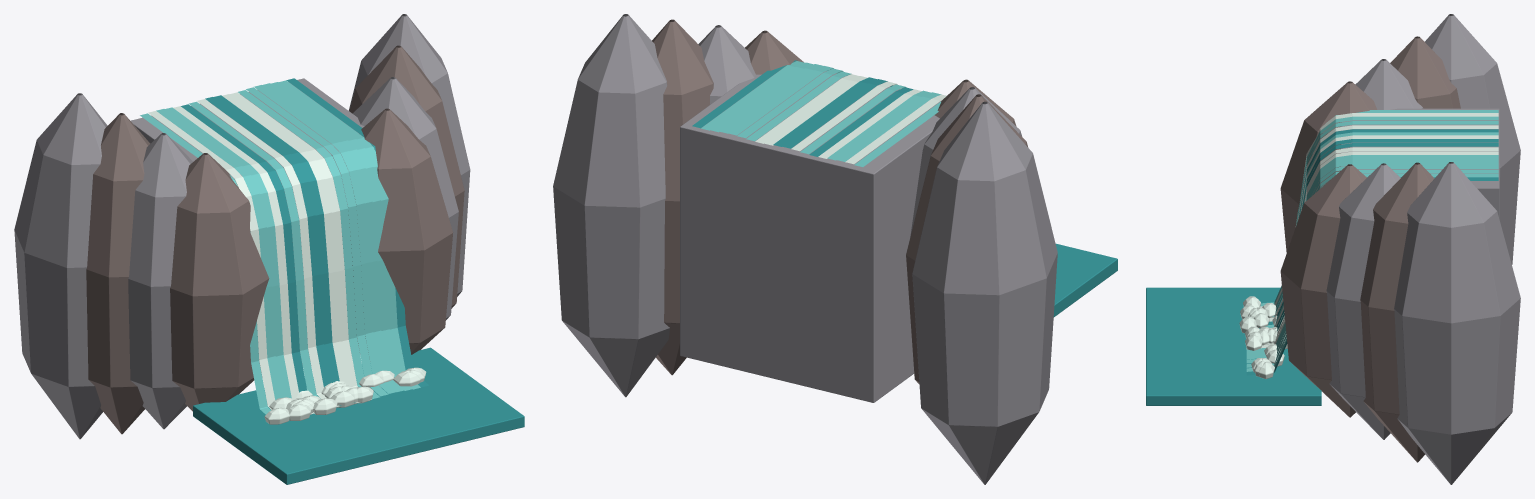
File: ashwick-waterfall-gorge.meshopt.glb
3 renders of one model, left to right at view 1: azimuth 30°, elevation 25°; view 2: azimuth 150°, elevation 25°; view 3: azimuth 270°, elevation 25°, orthographic. The views are drawn at different scales.
Parts seen in each view (by area): view 1: Gorge walls.002, Gorge walls.003, Cascade ribbons.003, Plunge pool.001, Cascade ribbons.004, Cascade ribbons.005, Spray.001, Upstream ledge.001; view 2: Gorge walls.003, Upstream ledge.001, Gorge walls.002, Cascade ribbons.003, Cascade ribbons.004, Cascade ribbons.005, Plunge pool.001; view 3: Gorge walls.003, Gorge walls.002, Plunge pool.001, Cascade ribbons.003, Cascade ribbons.004, Cascade ribbons.005, Spray.001, Upstream ledge.001.
Boxes of the visible parts, bbox=[...] form: Gorge walls.002: bbox=[86, 45, 464, 434]; Gorge walls.003: bbox=[14, 14, 470, 439]; Cascade ribbons.003: bbox=[140, 80, 420, 414]; Plunge pool.001: bbox=[193, 347, 524, 484]; Cascade ribbons.004: bbox=[148, 92, 371, 414]; Cascade ribbons.005: bbox=[181, 78, 428, 405]; Spray.001: bbox=[264, 367, 426, 424]; Upstream ledge.001: bbox=[130, 78, 364, 376]; Gorge walls.003: bbox=[553, 14, 1057, 484]; Upstream ledge.001: bbox=[680, 71, 941, 402]; Gorge walls.002: bbox=[652, 19, 1028, 384]; Cascade ribbons.003: bbox=[701, 61, 941, 166]; Cascade ribbons.004: bbox=[755, 74, 946, 164]; Cascade ribbons.005: bbox=[692, 60, 913, 156]; Plunge pool.001: bbox=[1053, 243, 1117, 317]; Gorge walls.003: bbox=[1326, 14, 1520, 484]; Gorge walls.002: bbox=[1280, 36, 1460, 462]; Plunge pool.001: bbox=[1146, 287, 1321, 405]; Cascade ribbons.003: bbox=[1246, 110, 1498, 371]; Cascade ribbons.004: bbox=[1246, 113, 1498, 349]; Cascade ribbons.005: bbox=[1246, 129, 1498, 375]; Spray.001: bbox=[1239, 296, 1287, 378]; Upstream ledge.001: bbox=[1341, 108, 1499, 218].
Bounding box in the file's own units: 6.96 × 5.26 × 5.55.
